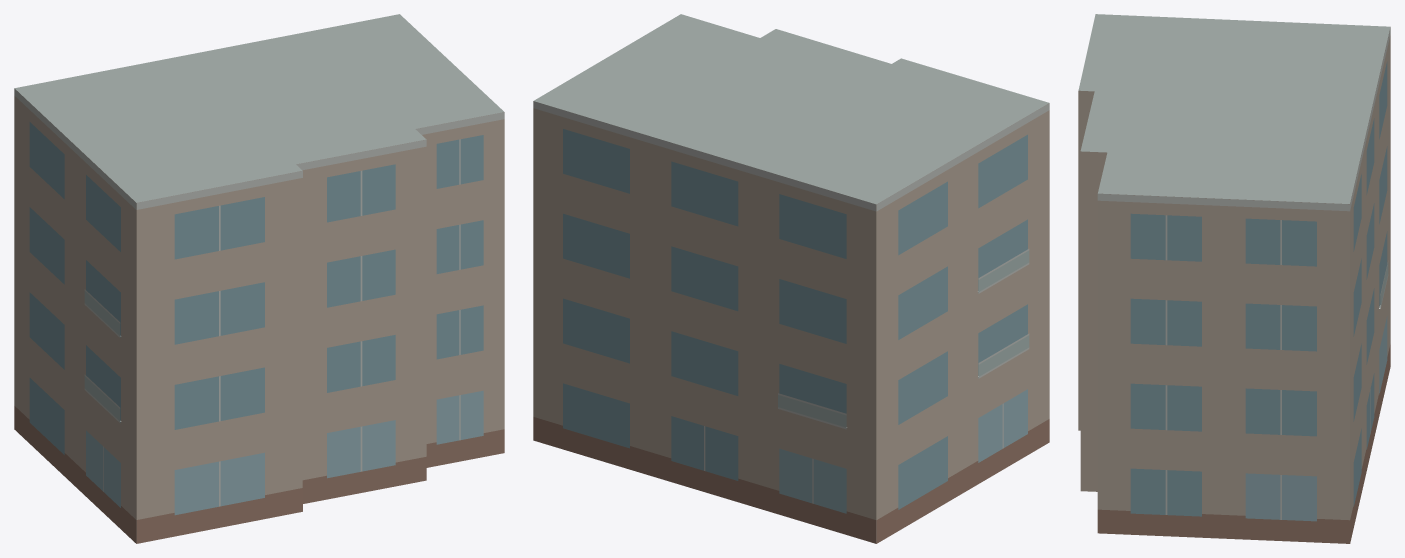
File: survey-upis-32816598.glb
3 renders of one model, left to right at view 1: azimuth 30°, elevation 25°; view 2: azimuth 150°, elevation 25°; view 3: azimuth 270°, elevation 25°, orthographic.
Parts seen in each view (by area): view 1: survey-upis-32816598.tmp; view 2: survey-upis-32816598.tmp; view 3: survey-upis-32816598.tmp.
Boxes of the visible parts, bbox=[...] form: survey-upis-32816598.tmp: bbox=[14, 14, 504, 543]; survey-upis-32816598.tmp: bbox=[533, 14, 1049, 543]; survey-upis-32816598.tmp: bbox=[1078, 14, 1390, 543].
Size of the model in its own units: 13.93 by 11.6 by 9.67.
